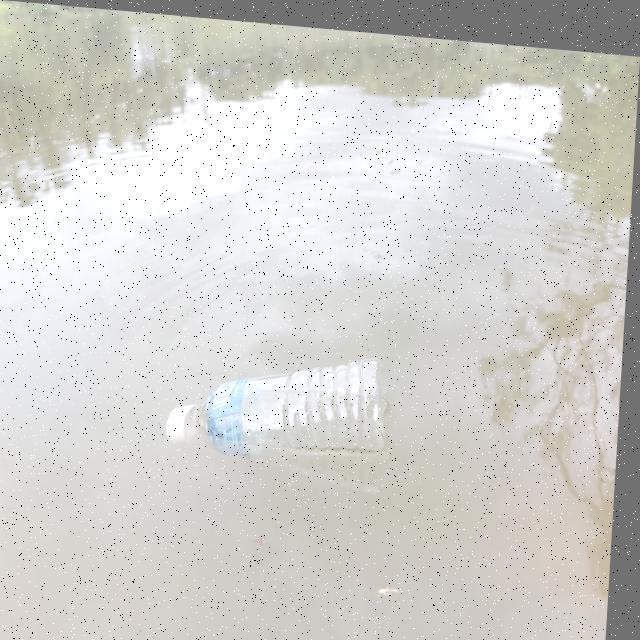waterbottle: (161, 334, 416, 485)
